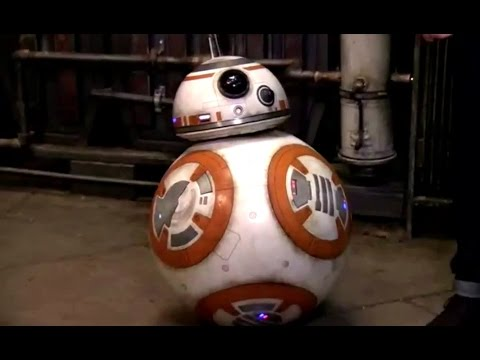bb8: (148, 56, 352, 326)
